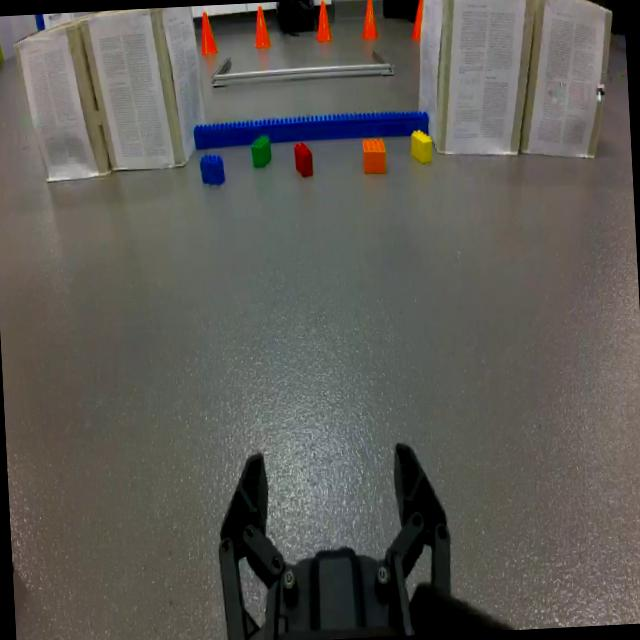block: (407, 128, 436, 168)
blue: (197, 150, 229, 193)
cone: (248, 2, 274, 54), (197, 8, 220, 61), (359, 0, 380, 43), (314, 0, 333, 43)
green: (248, 132, 276, 172)
metal barrier: (212, 50, 395, 87)
orange: (359, 134, 389, 180)
red goal: (294, 142, 314, 182)
river: (194, 109, 431, 154)
storage cube: (83, 6, 208, 168), (418, 0, 537, 154), (14, 17, 112, 187), (521, 0, 612, 159)
